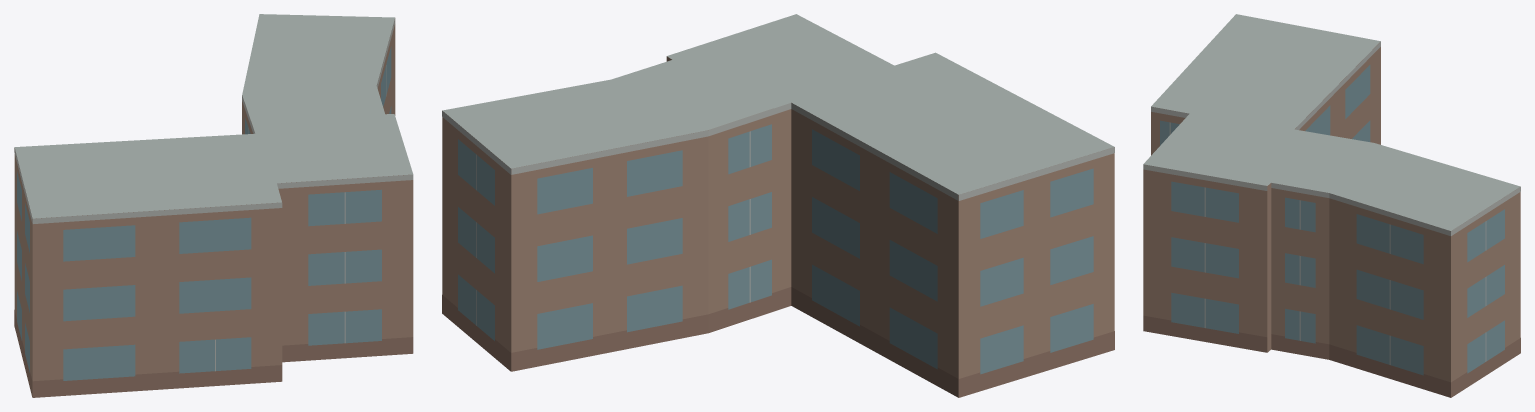
The model's file is survey-upis-32710654.glb.
3 renders of one model, left to right at view 1: azimuth 30°, elevation 25°; view 2: azimuth 150°, elevation 25°; view 3: azimuth 270°, elevation 25°, orthographic. The views are drawn at different scales.
Parts seen in each view (by area): view 1: survey-upis-32710654.tmp; view 2: survey-upis-32710654.tmp; view 3: survey-upis-32710654.tmp.
Part boxes in pixels (x1,y1,x2,y2): survey-upis-32710654.tmp: (14,14,413,397); survey-upis-32710654.tmp: (442,14,1114,397); survey-upis-32710654.tmp: (1143,14,1520,397).
Bounding box in the file's own units: 22.07 × 7.9 × 16.22.
